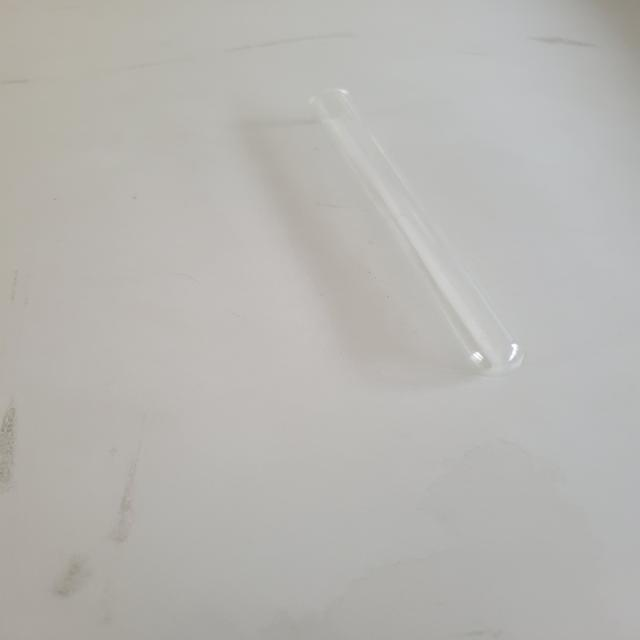Test_Tube: (276, 54, 556, 393)
